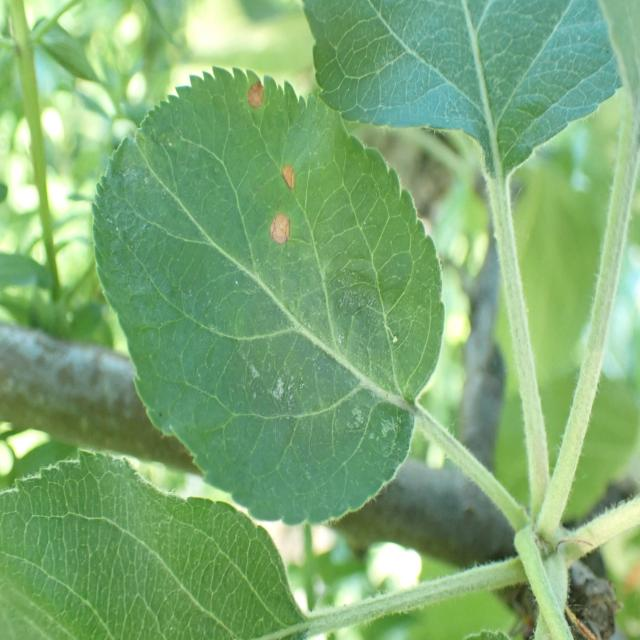Black Rot: (261, 202, 299, 272), (240, 60, 271, 126), (274, 149, 304, 199)
